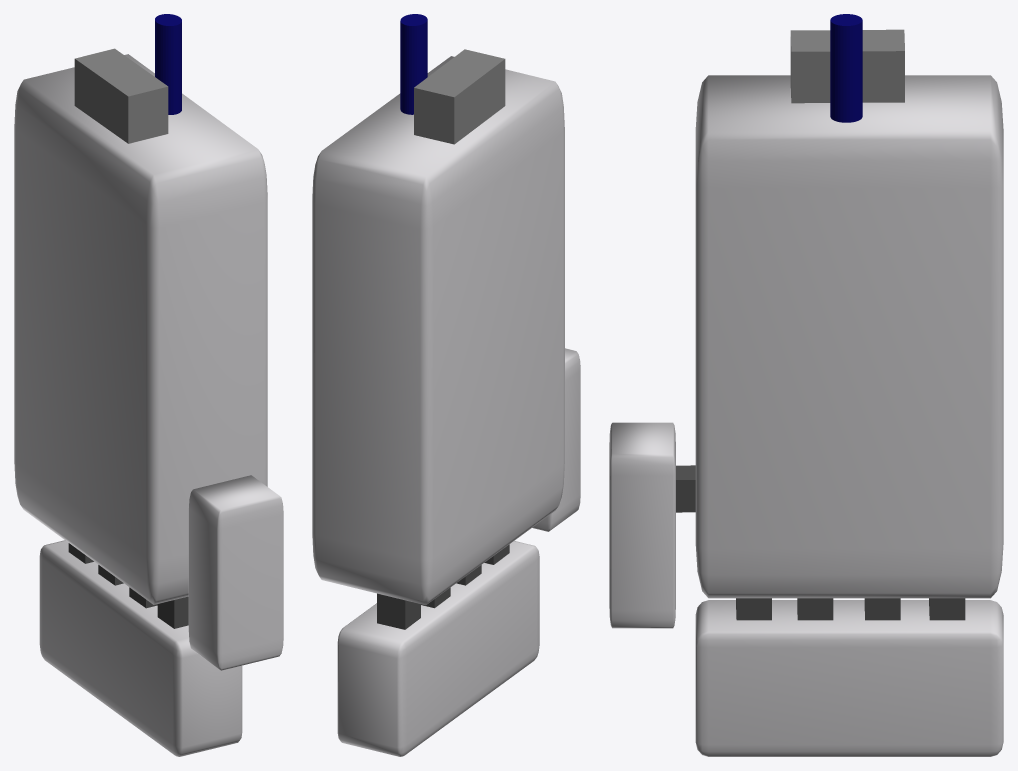
Rendered from model_left_hand.fbx.
3 renders of one model, left to right at view 1: azimuth 30°, elevation 25°; view 2: azimuth 150°, elevation 25°; view 3: azimuth 270°, elevation 25°, orthographic. The views are drawn at different scales.
Parts seen in each view (by area): view 1: Cube.011, Cube.002, Cube.003, Cube.045, Cylinder, Cube.032; view 2: Cube.011, Cube.002, Cube.045, Cube.003, Cylinder, Cube.033; view 3: Cube.011, Cube.002, Cube.003, Cube.045, Cylinder, Cube.037, Cube.033, Cube.034, Cube.035, Cube.032.
Part boxes in pixels (x1=…): Cube.011: x1=14, y1=54, x2=267, y2=604; Cube.002: x1=39, y1=540, x2=242, y2=756; Cube.003: x1=188, y1=475, x2=283, y2=670; Cube.045: x1=74, y1=48, x2=168, y2=143; Cylinder: x1=155, y1=14, x2=181, y2=114; Cube.032: x1=157, y1=596, x2=188, y2=628; Cube.011: x1=312, y1=56, x2=564, y2=605; Cube.002: x1=337, y1=541, x2=539, y2=756; Cube.045: x1=414, y1=49, x2=505, y2=144; Cube.003: x1=532, y1=348, x2=580, y2=531; Cylinder: x1=400, y1=14, x2=427, y2=114; Cube.033: x1=377, y1=593, x2=420, y2=629; Cube.011: x1=695, y1=75, x2=1003, y2=598; Cube.002: x1=695, y1=600, x2=1003, y2=756; Cube.003: x1=609, y1=422, x2=675, y2=628; Cube.045: x1=790, y1=29, x2=904, y2=103; Cylinder: x1=830, y1=14, x2=862, y2=122; Cube.037: x1=676, y1=465, x2=695, y2=512; Cube.033: x1=929, y1=598, x2=965, y2=620; Cube.034: x1=797, y1=598, x2=833, y2=620; Cube.035: x1=864, y1=598, x2=900, y2=620; Cube.032: x1=736, y1=598, x2=771, y2=620.
Bounding box in the file's own units: 37.13 × 200 × 97.3.
